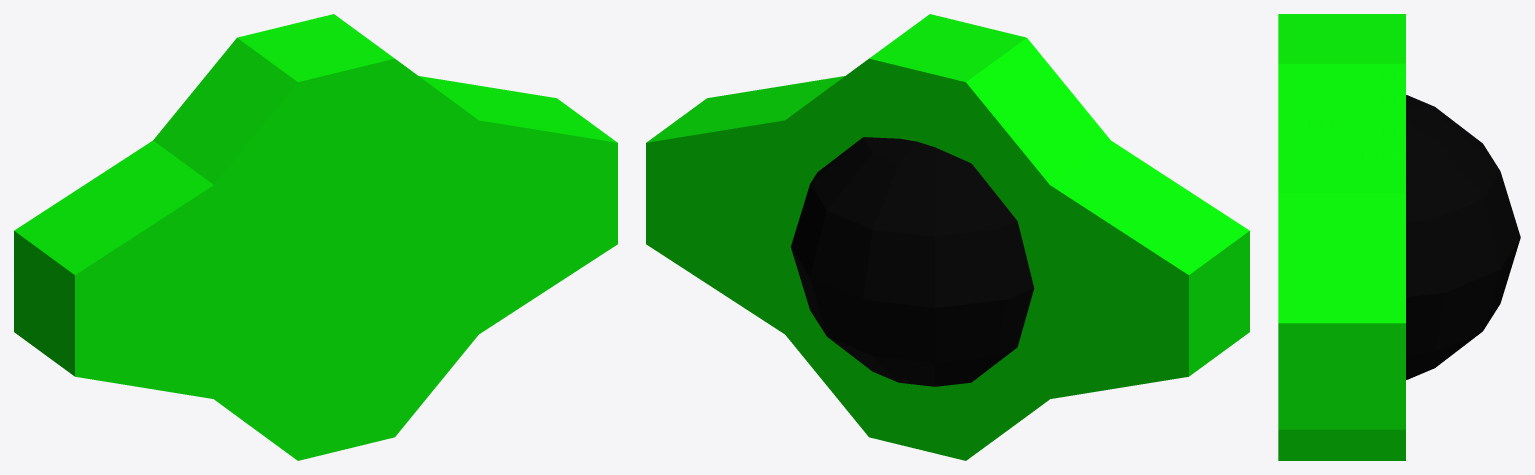
The model's file is sleek_camera.gltf.
3 views of the same model, side by side, from view 1: azimuth 30°, elevation 25°; view 2: azimuth 150°, elevation 25°; view 3: azimuth 270°, elevation 25° (orthographic). The views are drawn at different scales.
Parts seen in each view (by area): view 1: cylinder; view 2: cylinder, sphere; view 3: cylinder, sphere.
Part boxes in pixels (x1,y1,x2,y2): cylinder: (14,14,617,460); cylinder: (646,14,1249,460); sphere: (791,137,1034,386); cylinder: (1278,14,1405,460); sphere: (1406,95,1520,379).
Bounding box in the file's own units: 1.12 × 0.75 × 0.4151.
1 material, 1 textured.
